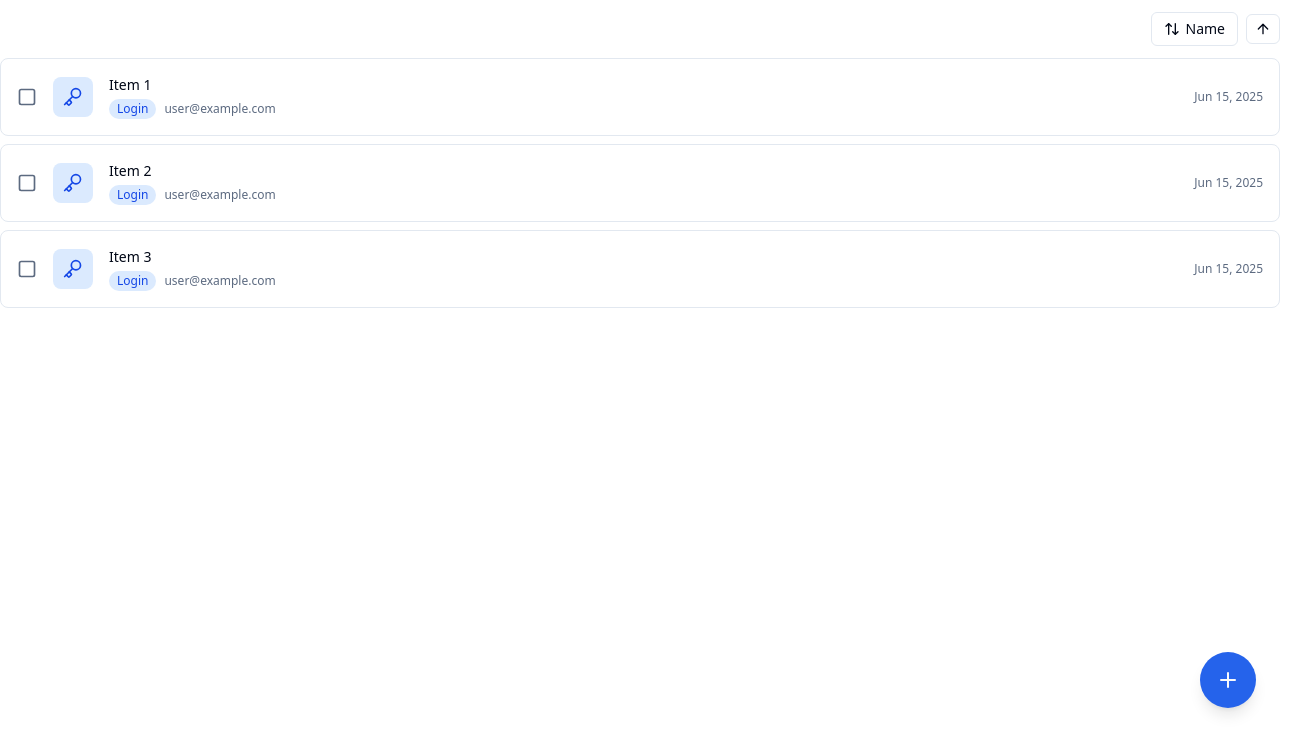
Test: VaultList › Multi-select mode › selects all when Select All checkbox is clicked
// Select first item to enter multi-select mode
Click the checkbox named "Select item" at [27, 97], box [17,87,37,107]
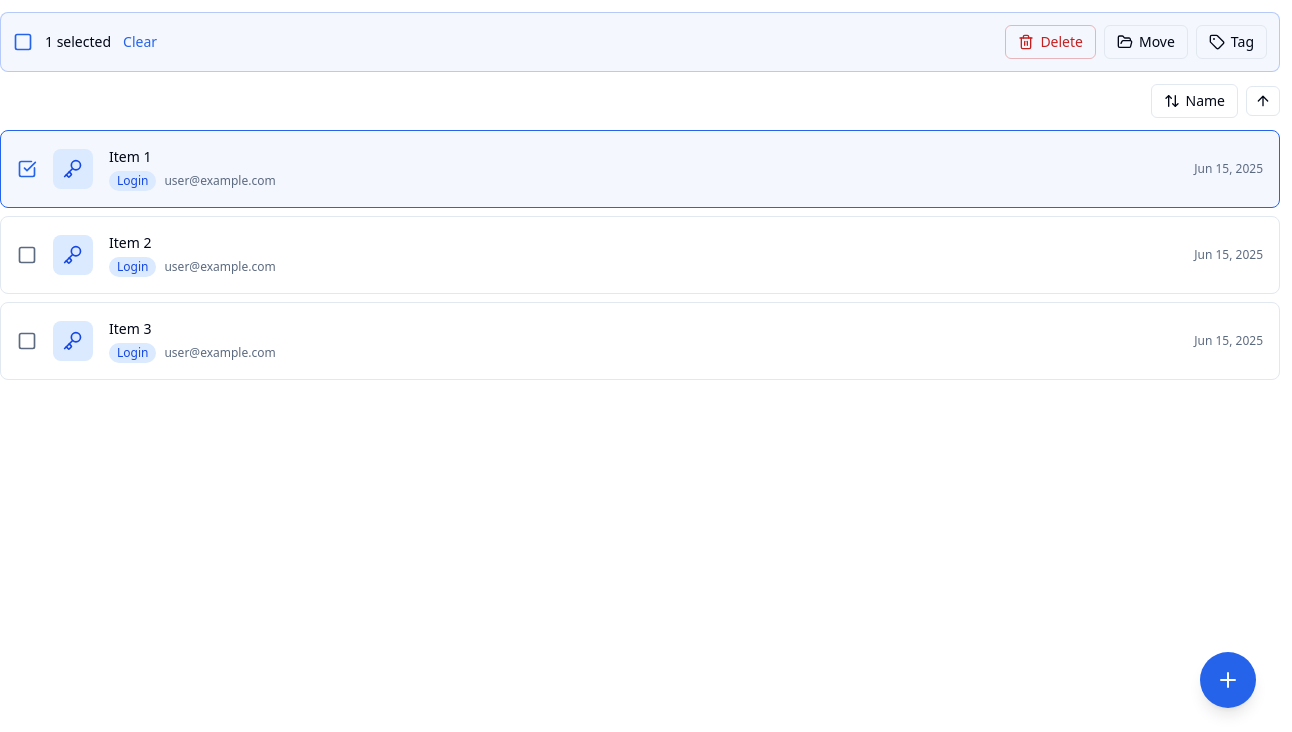
Check: the text "1 selected" is shown, box [45,32,111,52]
// Click "Select all"
Click the checkbox named "Select all" at [23, 42], box [13,32,33,52]
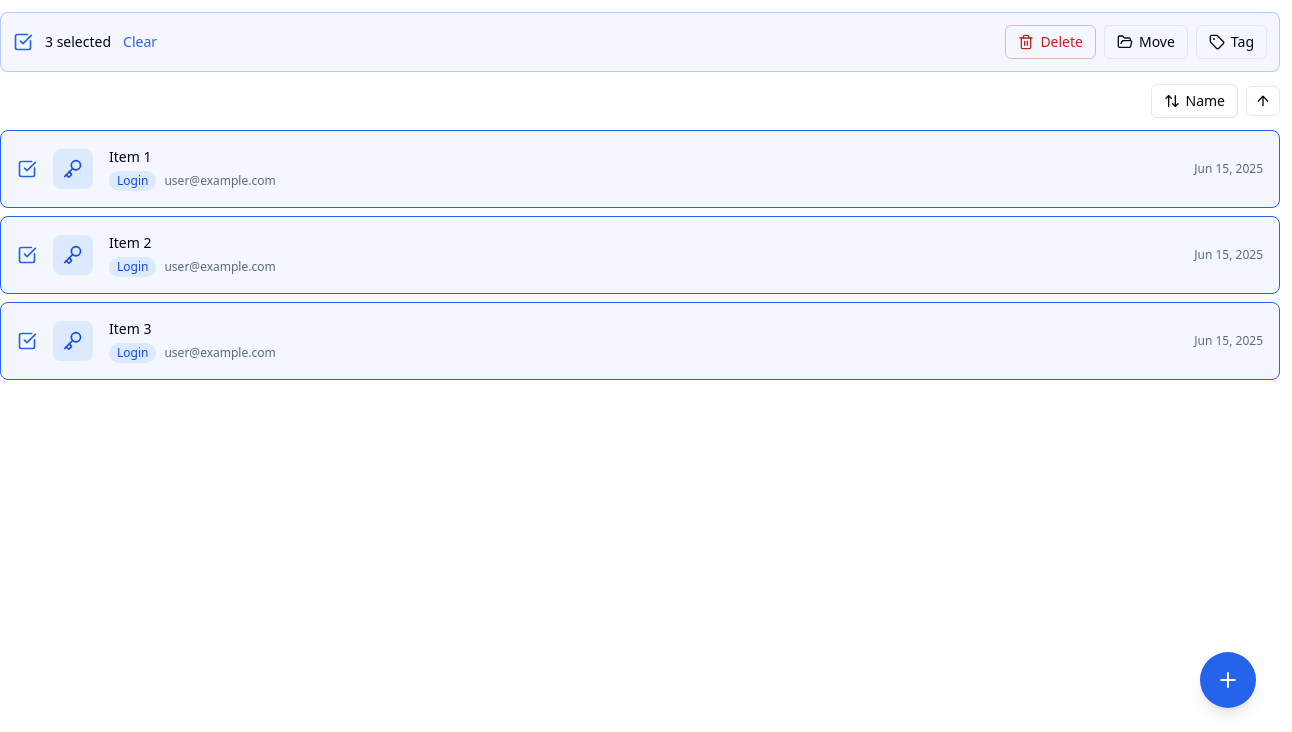
Check: the text "3 selected" is shown, box [45,32,111,52]
